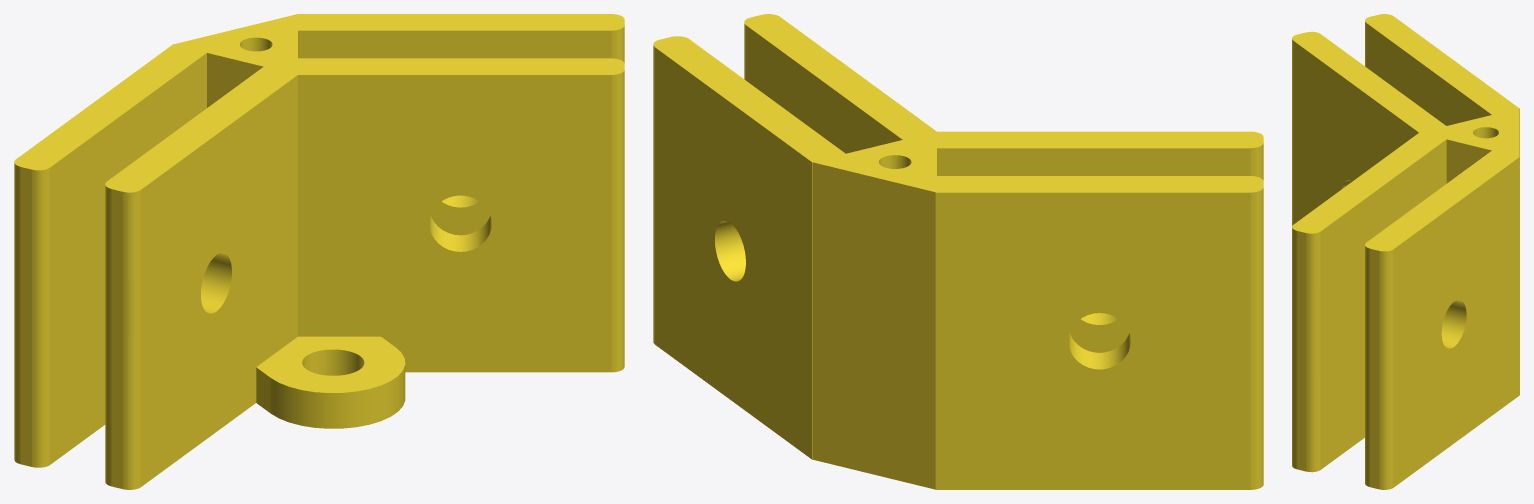
Rendered from openscad_hexagonal-shelves.glb.
The picture shows the model from 3 angles, left to right: view 1: azimuth 30°, elevation 25°; view 2: azimuth 150°, elevation 25°; view 3: azimuth 270°, elevation 25°; orthographic projection. The views are drawn at different scales.
Parts seen in each view (by area): view 1: object; view 2: object; view 3: object.
Boxes of the visible parts, x1,y1,x2,y2 form: object: (14,14,624,489); object: (653,14,1263,489); object: (1292,14,1519,489).
Size of the model in its own units: 53.39 by 25 by 21.65.
